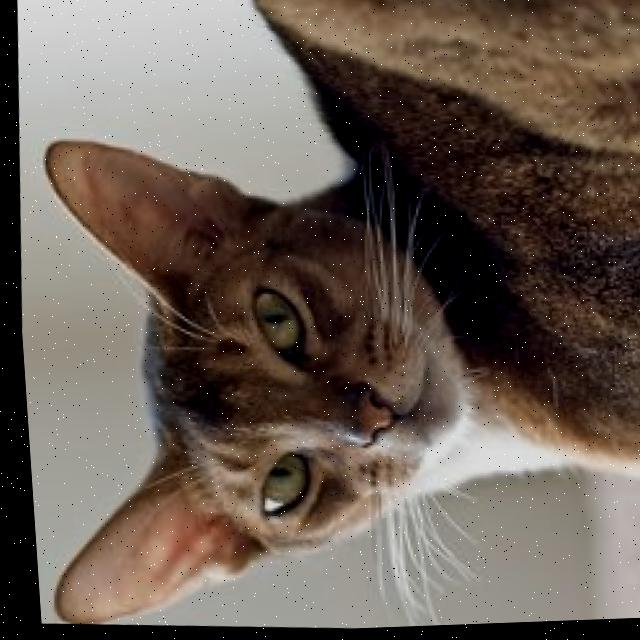Abyssinian: (1, 0, 640, 640)
